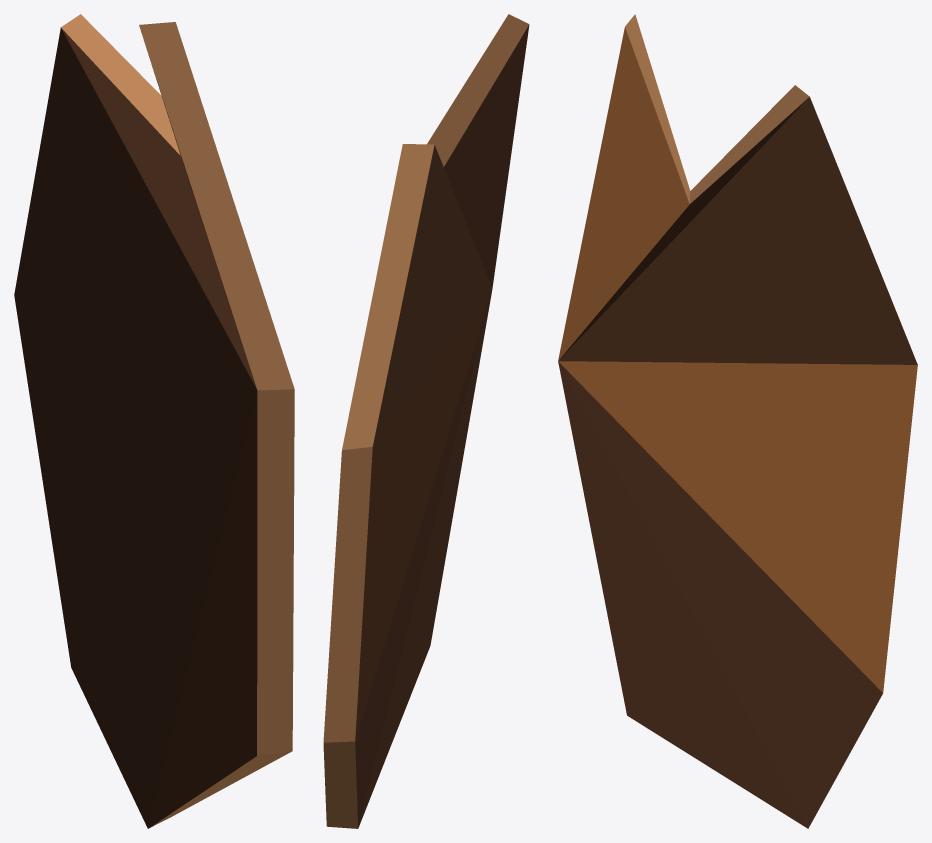
The model's file is beer_bottle_piece_side.glb.
3 views of the same model, side by side, from view 1: azimuth 30°, elevation 25°; view 2: azimuth 150°, elevation 25°; view 3: azimuth 270°, elevation 25° (orthographic). The views are drawn at different scales.
Parts seen in each view (by area): view 1: Curved solid jagged glass.002; view 2: Curved solid jagged glass.002; view 3: Curved solid jagged glass.002.
Part boxes in pixels (left/top/right/bottom): Curved solid jagged glass.002: left=14, top=14, right=294, bottom=828; Curved solid jagged glass.002: left=323, top=14, right=529, bottom=828; Curved solid jagged glass.002: left=558, top=14, right=917, bottom=828.
Size of the model in its own units: 0.0147 by 0.0849 by 0.0365.
